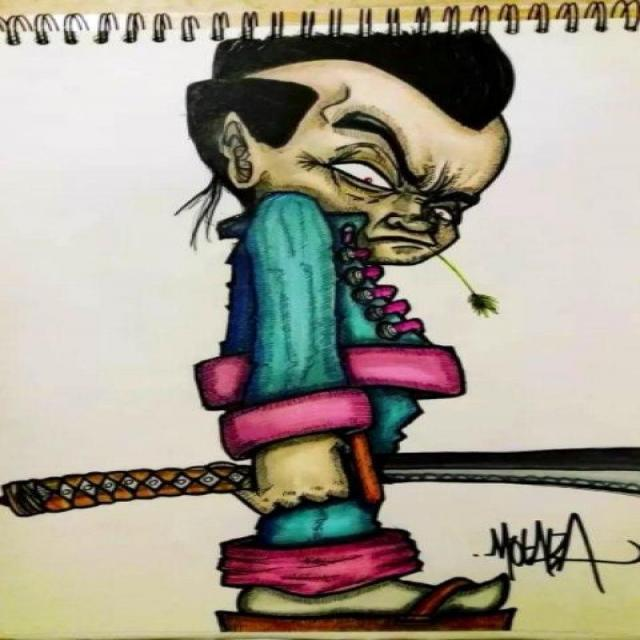-: (5, 43, 559, 637), (485, 514, 617, 580)
